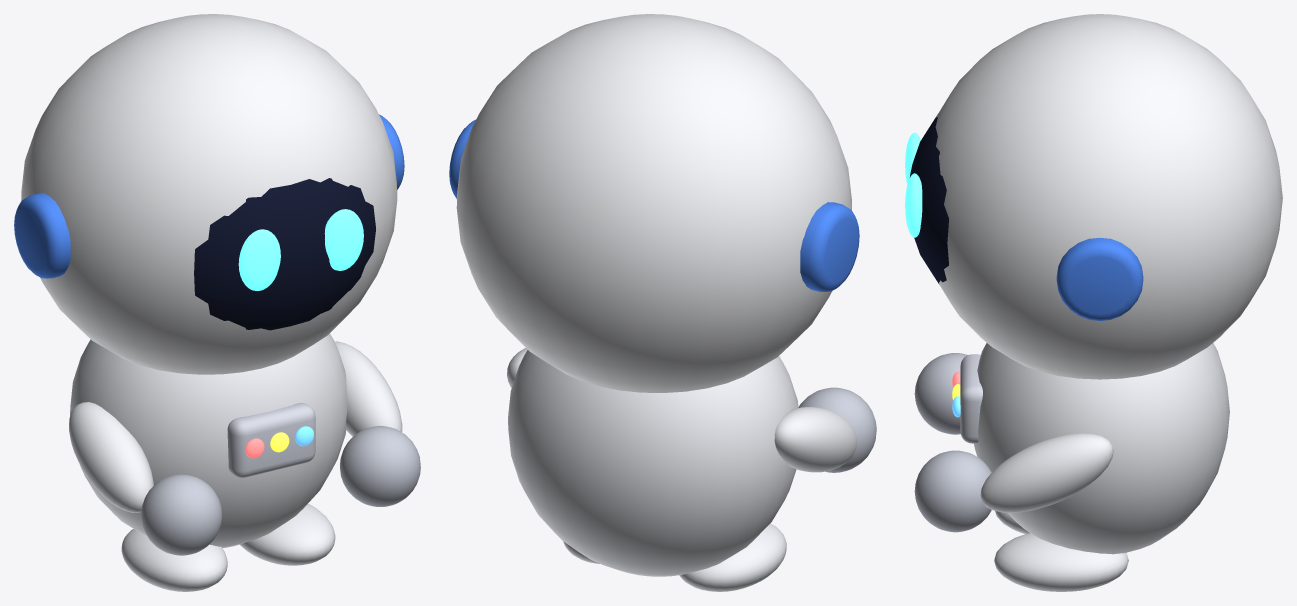
File: Kosmo.fbx
3 views of the same model, side by side, from view 1: azimuth 30°, elevation 25°; view 2: azimuth 150°, elevation 25°; view 3: azimuth 270°, elevation 25° (orthographic). The views are drawn at different scales.
Visible parts, largest first — view 1: Kosmo Casco, Kosmo Traje, Kosmo Visor, Kosmo Brazo, Kosmo Guante, Kosmo Guante.001, Kosmo Panel, Kosmo Pata, Kosmo Oreja del casco, Kosmo Brazo.001, Kosmo Pata.001, Kosmo Ojito (+2 smaller); view 2: Kosmo Casco, Kosmo Traje, Kosmo Brazo, Kosmo Oreja del casco, Kosmo Pata, Kosmo Guante, Kosmo Oreja del casco.001; view 3: Kosmo Casco, Kosmo Traje, Kosmo Brazo.001, Kosmo Oreja del casco.001, Kosmo Pata.001, Kosmo Guante.001, Kosmo Visor, Kosmo Guante, Kosmo Panel, Kosmo Ojito.001.
Boxes of the visible parts, x1,y1,x2,y2 form: Kosmo Casco: (21,14,397,374); Kosmo Traje: (70,333,347,548); Kosmo Visor: (194,178,375,330); Kosmo Brazo: (69,402,153,512); Kosmo Guante: (141,474,222,555); Kosmo Guante.001: (340,426,420,506); Kosmo Panel: (227,403,315,477); Kosmo Pata: (121,529,227,591); Kosmo Oreja del casco: (14,193,70,278); Kosmo Brazo.001: (335,341,402,436); Kosmo Pata.001: (239,503,335,565); Kosmo Ojito: (238,229,280,290); Kosmo Casco: (456,14,851,392); Kosmo Traje: (508,350,798,576); Kosmo Brazo: (774,407,856,472); Kosmo Oreja del casco: (800,202,859,291); Kosmo Pata: (679,523,786,591); Kosmo Guante: (798,387,876,472); Kosmo Oreja del casco.001: (449,119,475,198); Kosmo Casco: (935,14,1282,379); Kosmo Traje: (974,343,1229,554); Kosmo Brazo.001: (980,433,1113,512); Kosmo Oreja del casco.001: (1056,238,1143,320); Kosmo Pata.001: (994,533,1128,591); Kosmo Guante.001: (914,450,991,532); Kosmo Visor: (909,114,948,284); Kosmo Guante: (914,353,967,434); Kosmo Panel: (960,354,982,443); Kosmo Ojito.001: (905,173,922,237).
Size of the model in its own units: 0.86 by 1.2 by 0.785.
